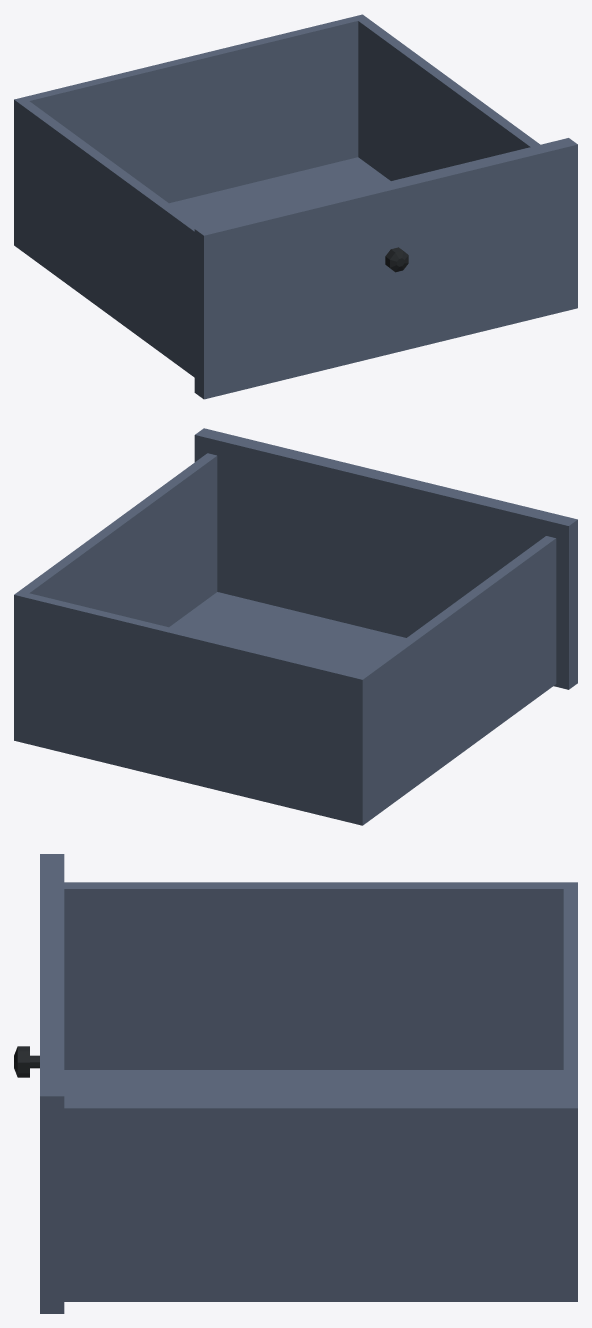
File: Door3_C4_05.fbx
The picture shows the model from 3 angles, top to bottom: view 1: azimuth 30°, elevation 25°; view 2: azimuth 150°, elevation 25°; view 3: azimuth 270°, elevation 25°; orthographic projection. The views are drawn at different scales.
Visible parts, largest first — view 1: Door3_C4_05; view 2: Door3_C4_05; view 3: Door3_C4_05.
Boxes of the visible parts, left/top/right/bottom form: Door3_C4_05: left=14, top=14, right=577, bottom=399; Door3_C4_05: left=14, top=428, right=577, bottom=825; Door3_C4_05: left=14, top=854, right=577, bottom=1313.
Size of the model in its own units: 59 by 24.68 by 58.03.
